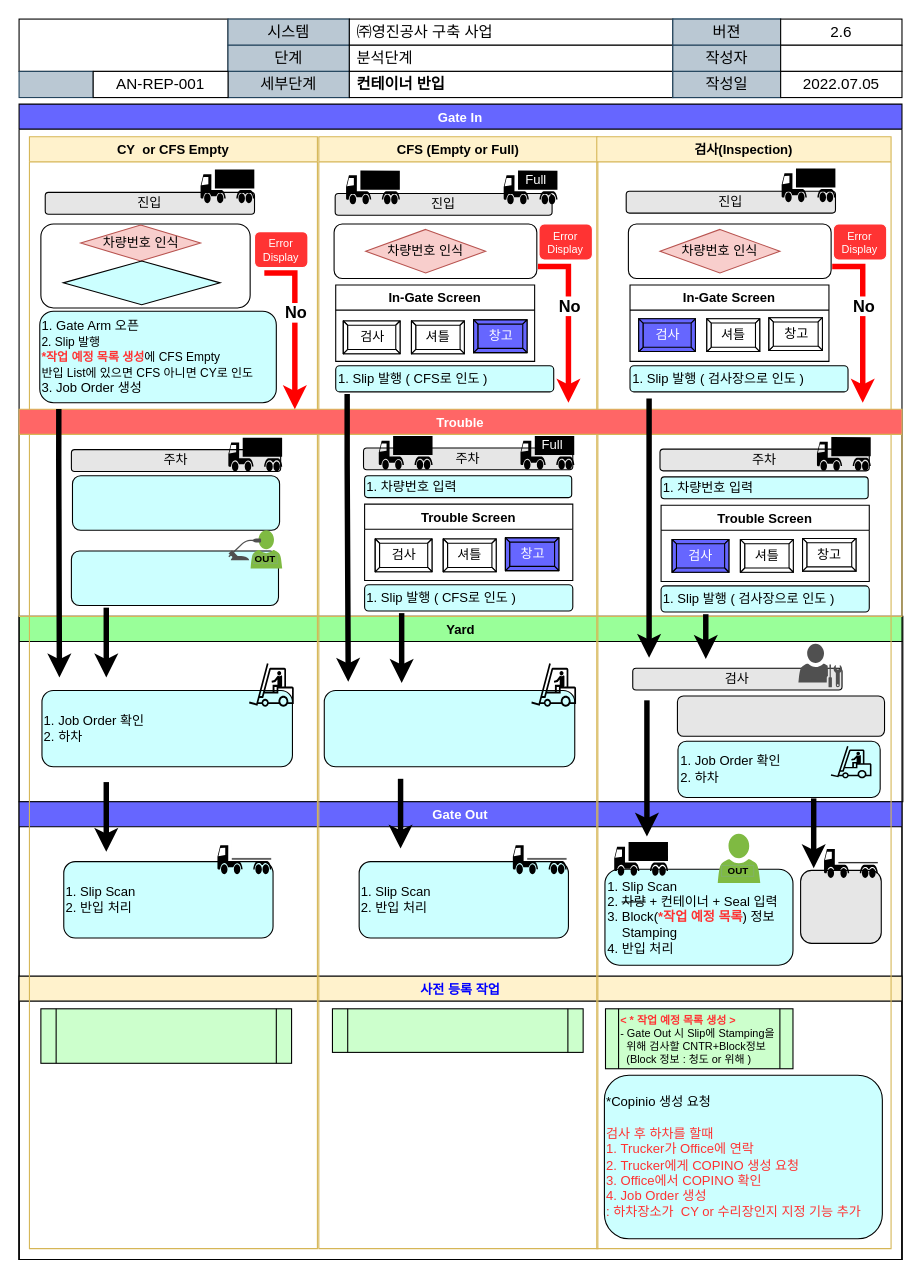
The diagram is 922 pixels wide and 1279 high, and some of its shapes have lost their labels. The shapes that lost their labels are listed below. From the top down, each one's centre as x and y in pixels, then its label:
the point at 123,44: Process 정의서
the point at 841,57: 박철규
the point at 55,84: 문서번호
the point at 141,282: COPINO 오류 *반입제한 대상 아님
the point at 175,502: 1. 차량번호 입력 2. Trouble 사유 Display 3. 인터콤으로 통화
the point at 174,577: 1. 문제해결을 위한 가이드 2. 해결 후 Slip 발행 CY로 인도 3. Job Order 생성
the point at 449,728: 1. Job Order 확인 ( *작업 예정 목록 ) : Empty는 COPINO가 존재해야 함 2. 하차 3. 반입 처리
the point at 780,715: < Bad Sound or 야적을 할 경우 > : *Copinio 생성 요청
the point at 840,906: Bypass
the point at 166,1035: < *반입제한 목록 생성 > - 반입 제한 CNTR 목록 (일부 목록은 통합정보시스템에서 가져옴)
the point at 457,1030: < *작업 예정 목록 생성 > - 반입할 CNTR (Full / Empty 모두)
